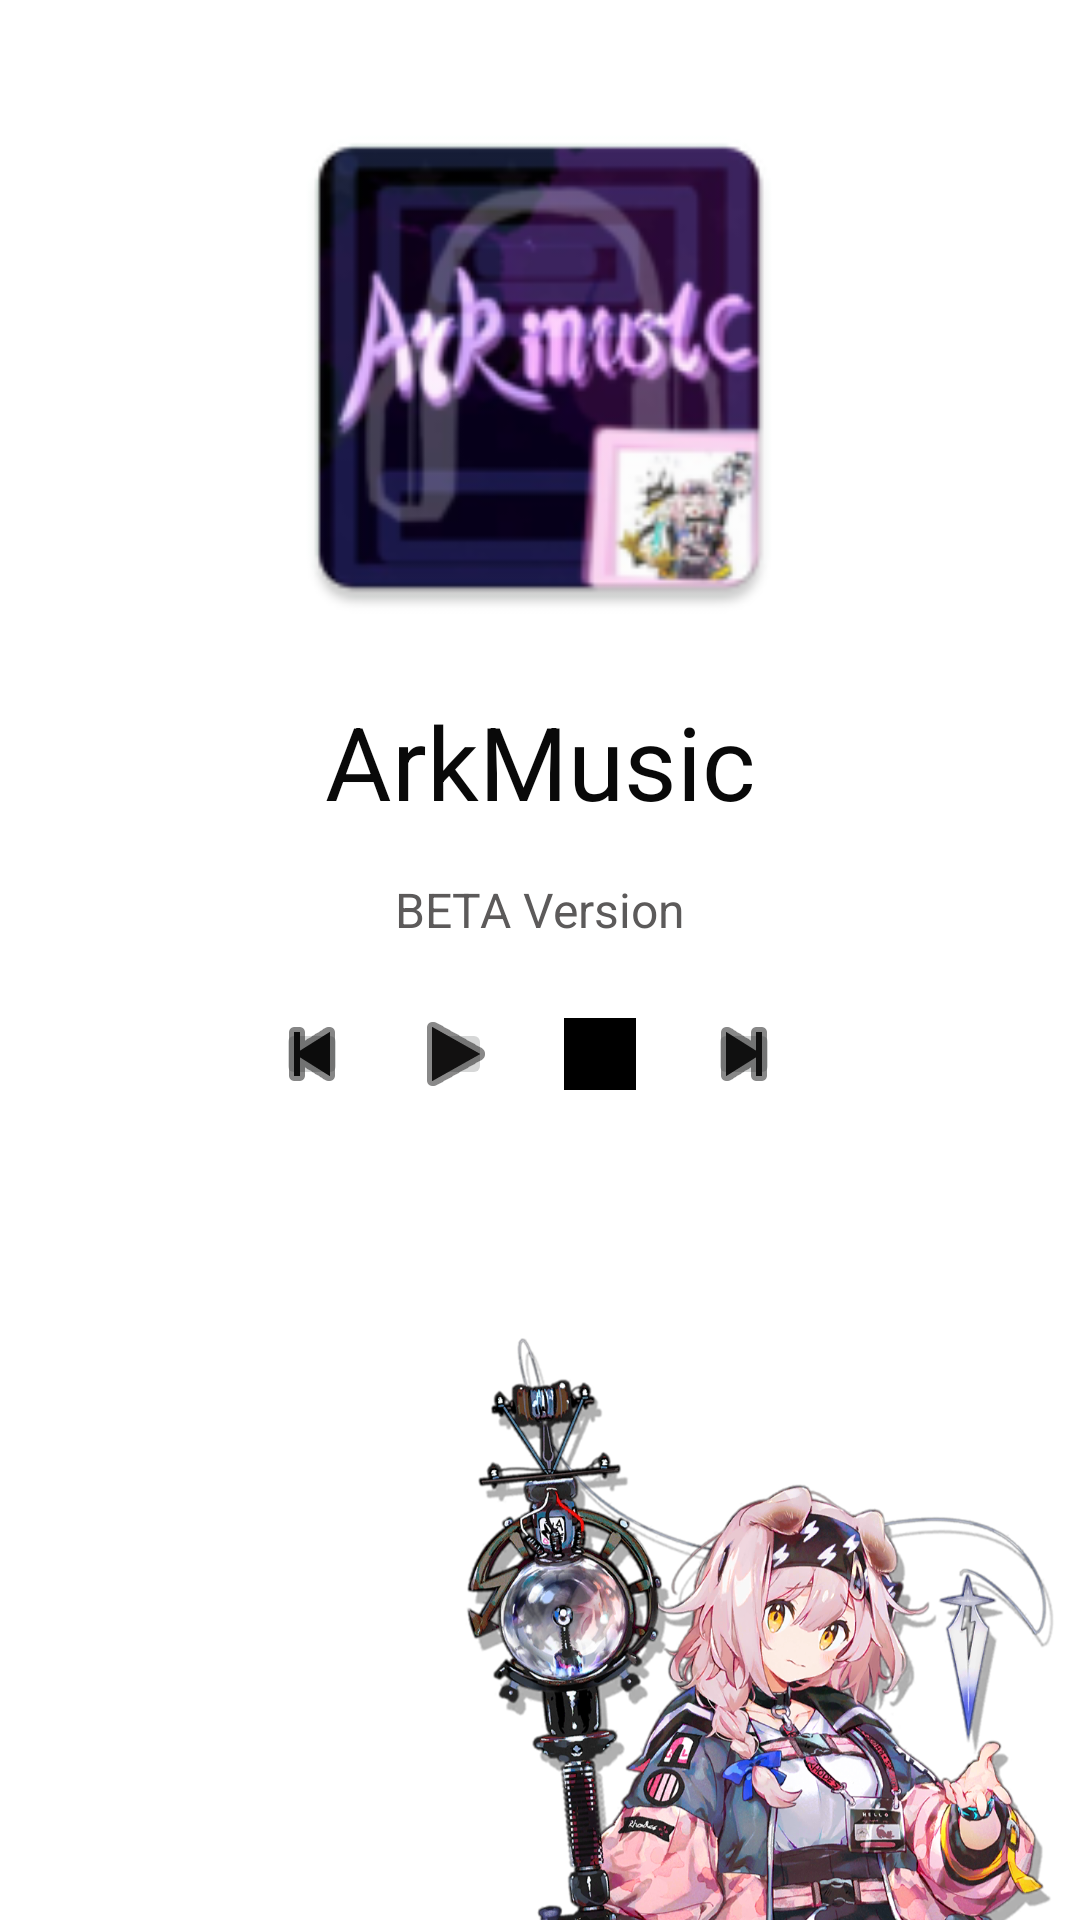

Icon click points for this 1080*1920 phone screenshot, format (x=x, y=y):
next: (x=744, y=1054)
play: (x=456, y=1054)
previous: (x=312, y=1054)
